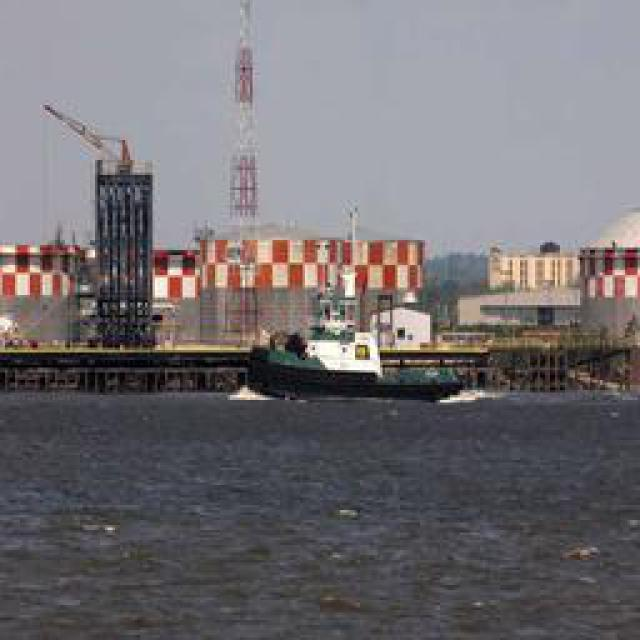Ship: (247, 330, 467, 405)
